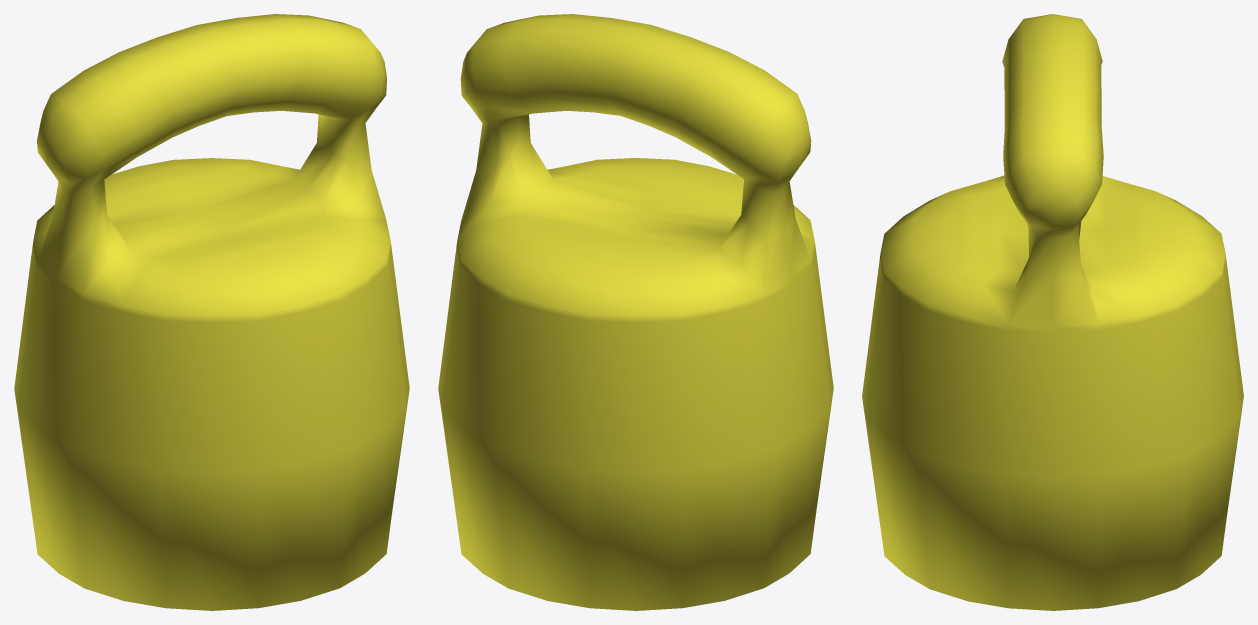
File: MediumWeight.fbx
The picture shows the model from 3 angles, left to right: view 1: azimuth 30°, elevation 25°; view 2: azimuth 150°, elevation 25°; view 3: azimuth 270°, elevation 25°; orthographic projection. The views are drawn at different scales.
Visible parts, largest first — view 1: MediumWeight; view 2: MediumWeight; view 3: MediumWeight.
Boxes of the visible parts, x1=… form: MediumWeight: x1=14, y1=14, x2=409, y2=610; MediumWeight: x1=438, y1=14, x2=833, y2=610; MediumWeight: x1=862, y1=14, x2=1243, y2=610.
Size of the model in its own units: 13.41 by 18.9 by 13.41.
